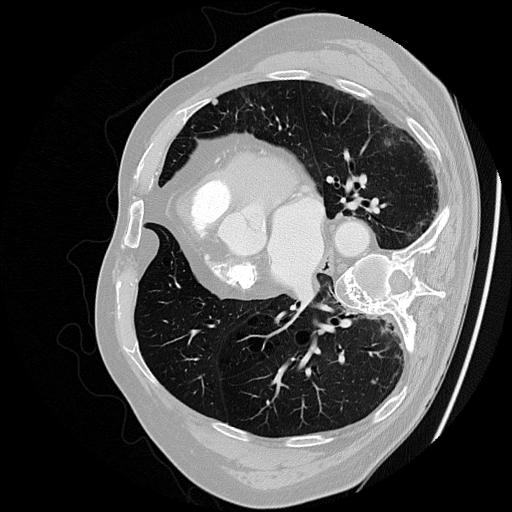nodule: (208, 96, 222, 110)
